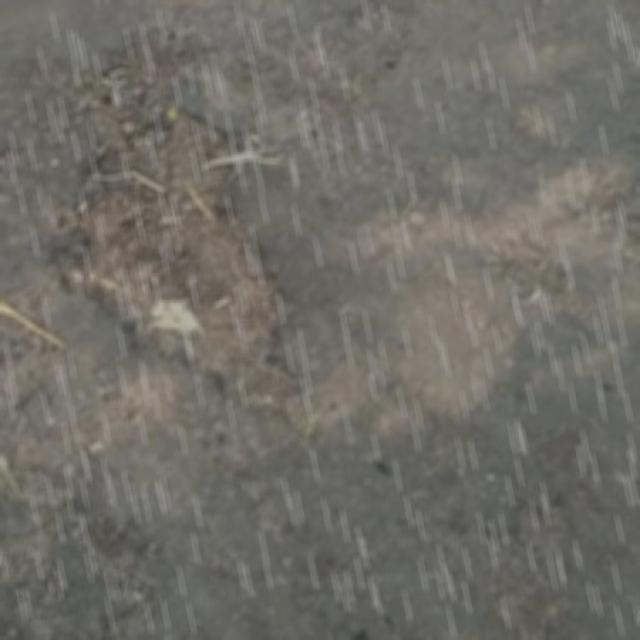road-pothole: (38, 29, 297, 400)
